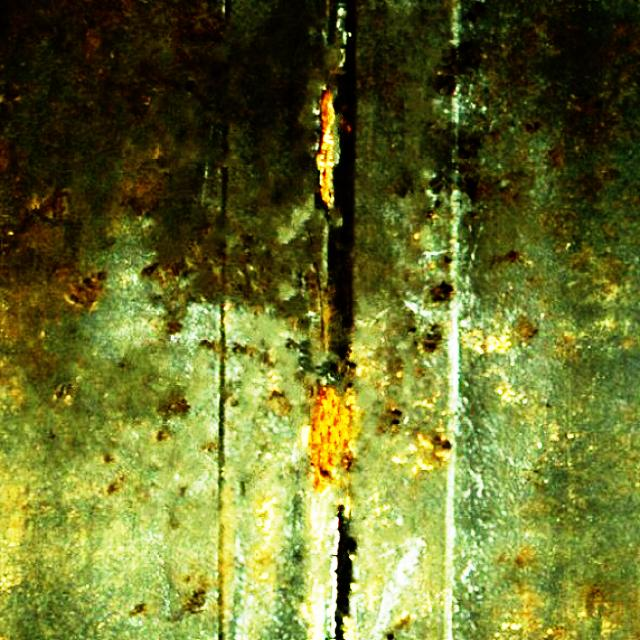Corrosion: (311, 387, 355, 495), (315, 90, 335, 208), (342, 118, 352, 134)
